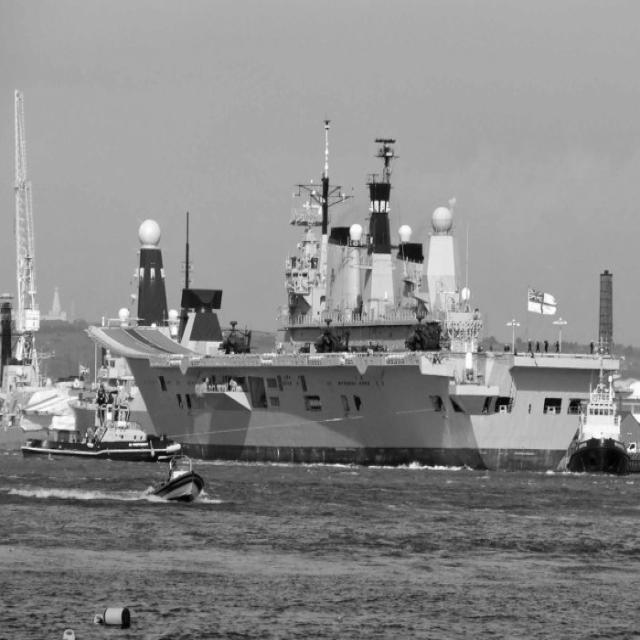Portanaves: (84, 114, 627, 479)
